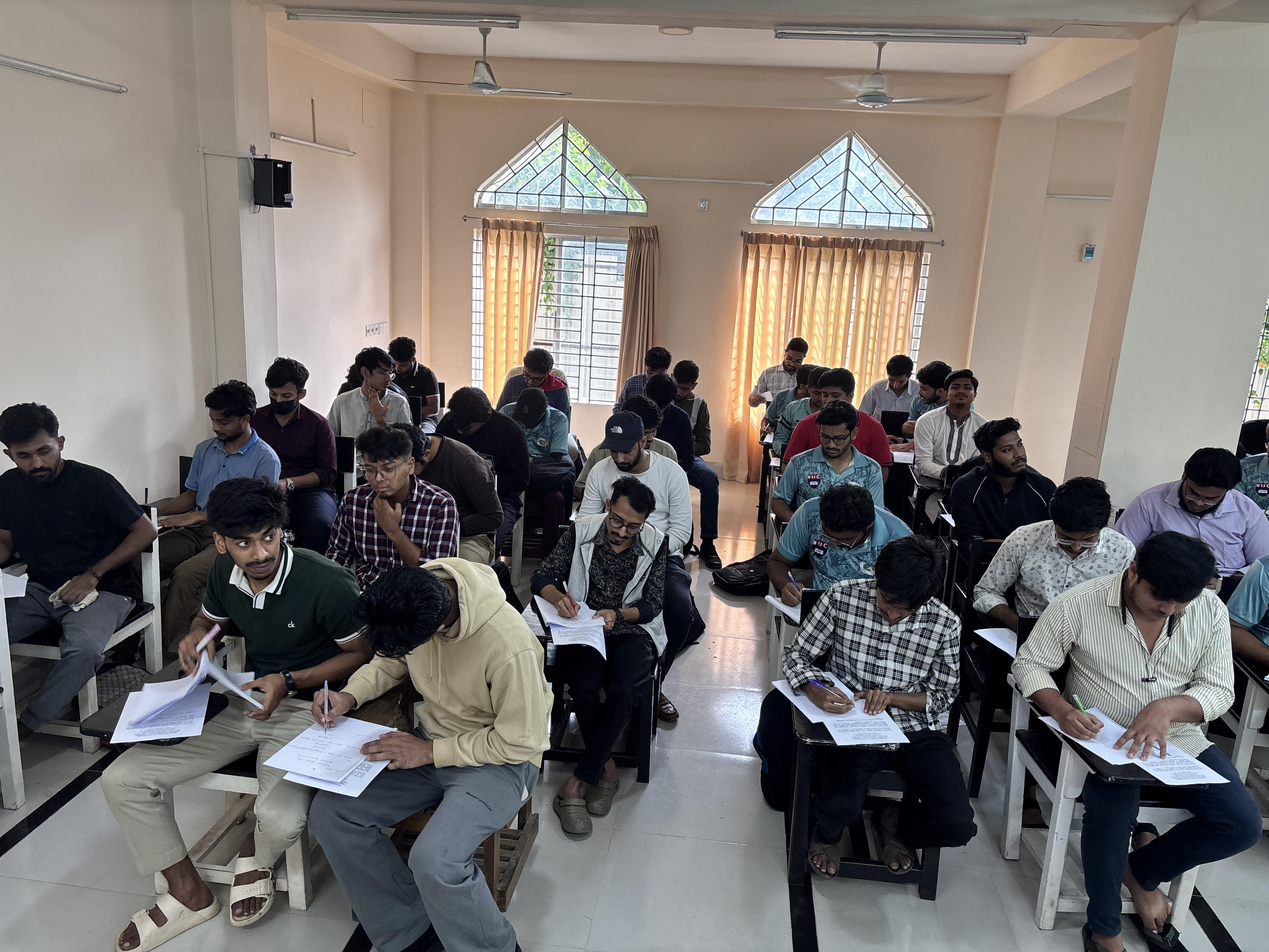copying: (342, 346, 407, 432), (910, 359, 950, 416)
no_cheating: (313, 559, 526, 877), (146, 471, 319, 809), (1100, 534, 1238, 822), (796, 541, 941, 781), (552, 486, 691, 702), (8, 408, 112, 649), (796, 475, 916, 587), (343, 416, 442, 537), (1026, 477, 1133, 584), (954, 416, 1045, 540), (186, 365, 260, 494), (1160, 434, 1245, 537), (792, 395, 869, 494), (255, 349, 323, 445), (592, 409, 661, 502), (930, 371, 990, 472), (439, 386, 505, 463), (508, 379, 563, 452), (513, 343, 574, 403), (872, 348, 917, 414), (768, 334, 815, 381), (387, 335, 424, 389), (663, 357, 702, 408), (637, 346, 672, 394)
